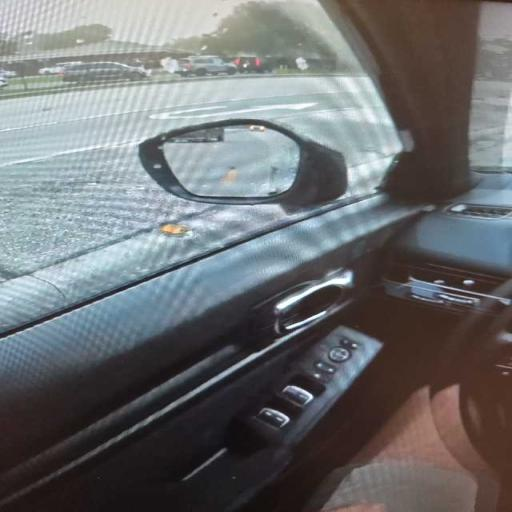car: (0, 0, 511, 511), (59, 62, 151, 83), (176, 56, 237, 76), (168, 127, 224, 142), (233, 56, 271, 73), (39, 66, 63, 75), (0, 70, 17, 78), (248, 125, 266, 132), (0, 77, 8, 88)
lane: (0, 77, 399, 278), (0, 92, 386, 165), (0, 77, 375, 130)
